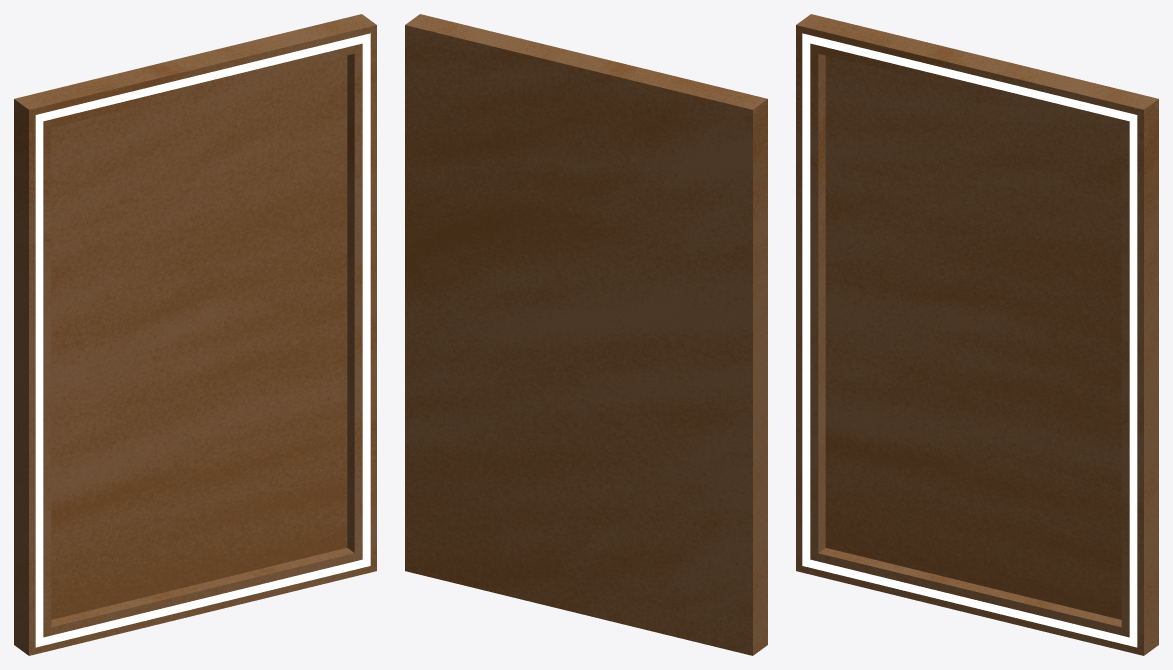
File: CartaBranca.fbx
3 views of the same model, side by side, from view 1: azimuth 30°, elevation 25°; view 2: azimuth 150°, elevation 25°; view 3: azimuth 330°, elevation 25° (orthographic).
Visible parts, largest first — view 1: CartaBranca; view 2: CartaBranca; view 3: CartaBranca.
Boxes of the visible parts, box(x1,y1,x2,y2) form: CartaBranca: box(14, 14, 376, 655); CartaBranca: box(405, 14, 767, 655); CartaBranca: box(796, 14, 1158, 655).
Bounding box in the file's own units: 200 × 300 × 15.
